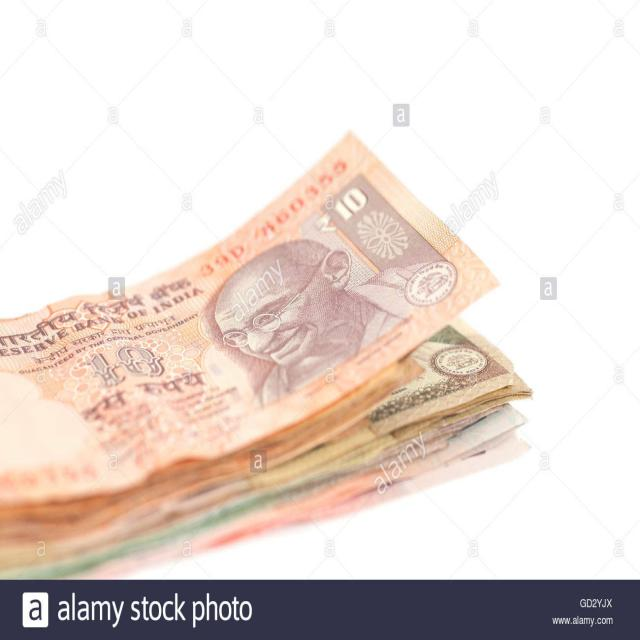10IndianRupees: (0, 132, 501, 476)
